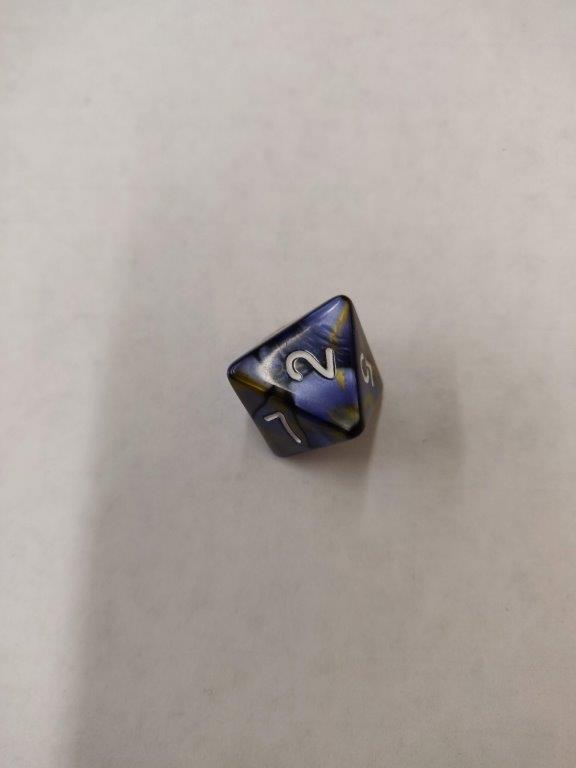d8-2: (227, 296, 383, 462)
